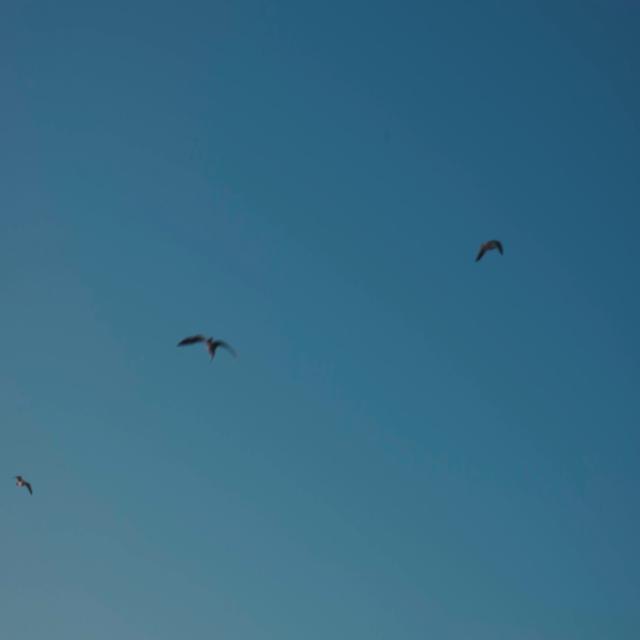bird: (173, 330, 243, 368), (474, 236, 508, 271), (8, 465, 35, 499)
